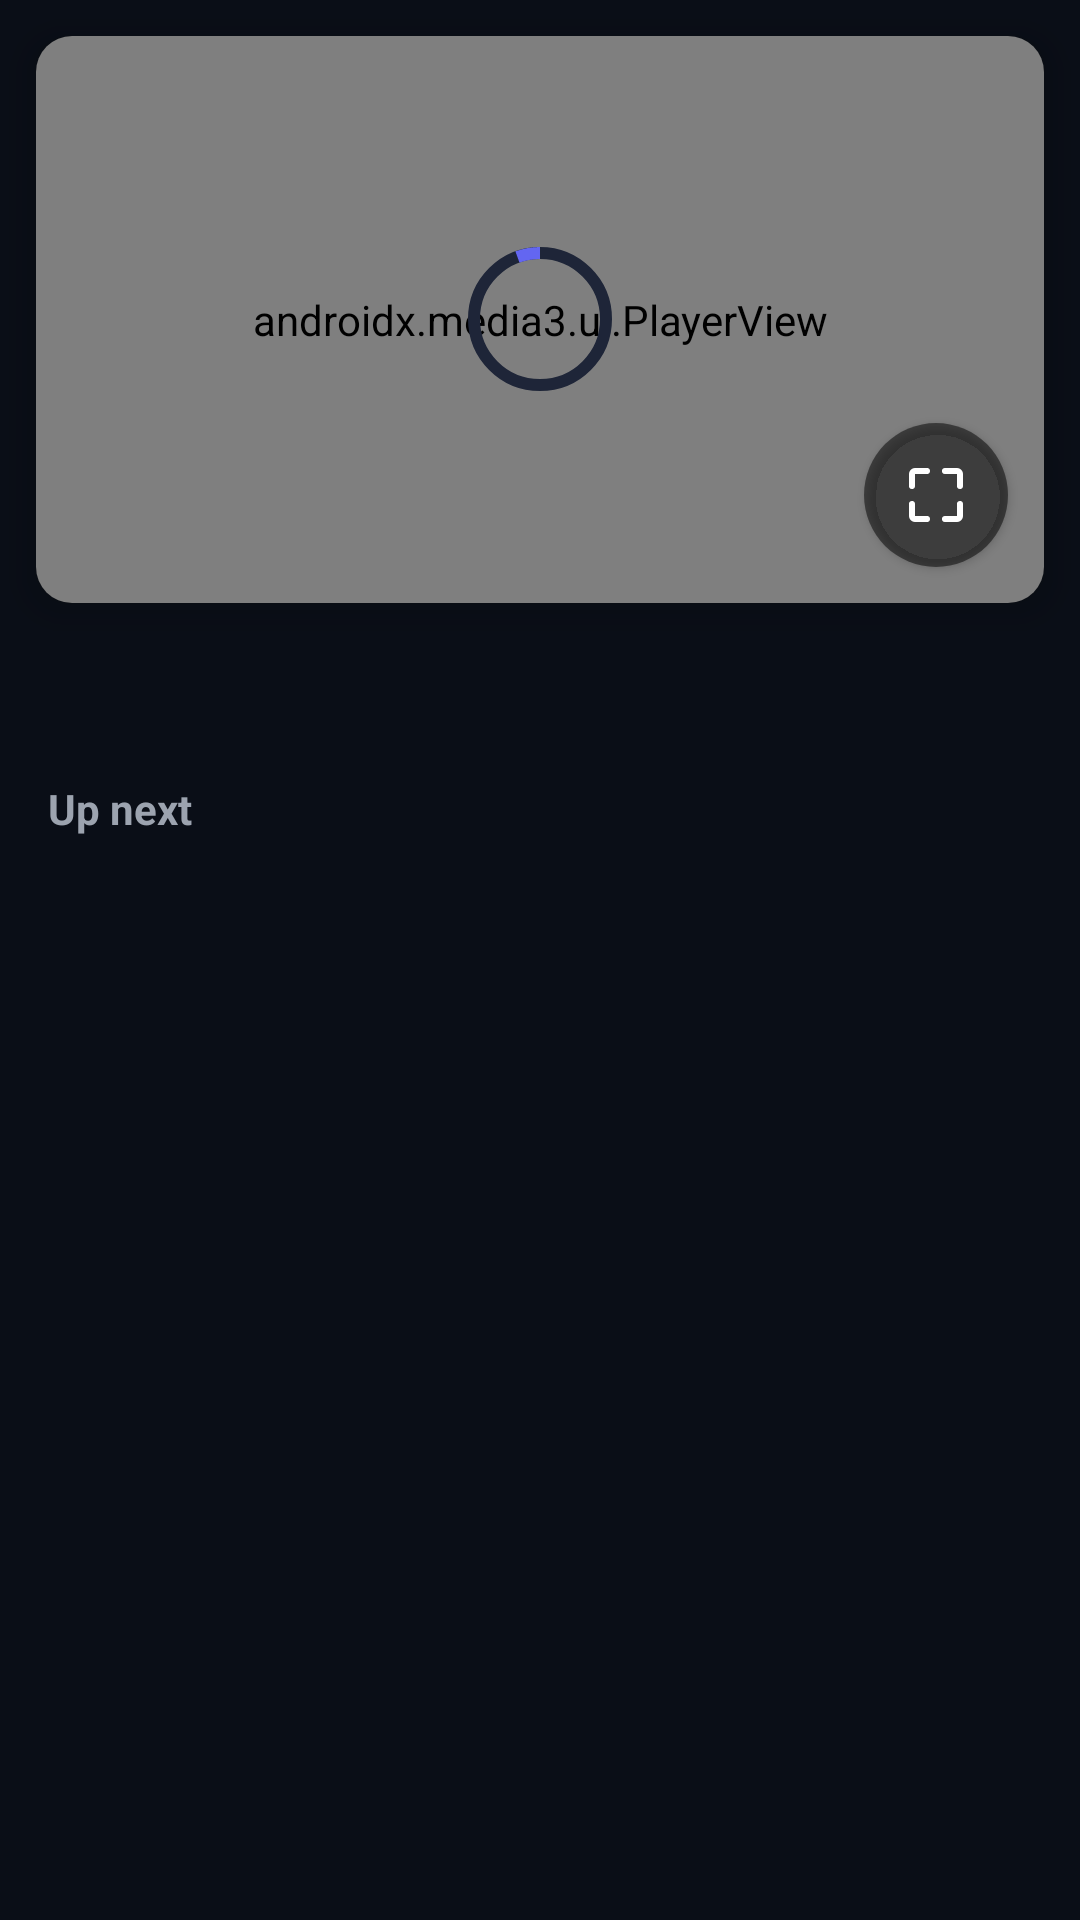

Where icons sit on this 1080×1920 app screen, as (x1, y1, x2, y2):
Toggle fullscreen: (864, 423, 1008, 567)
